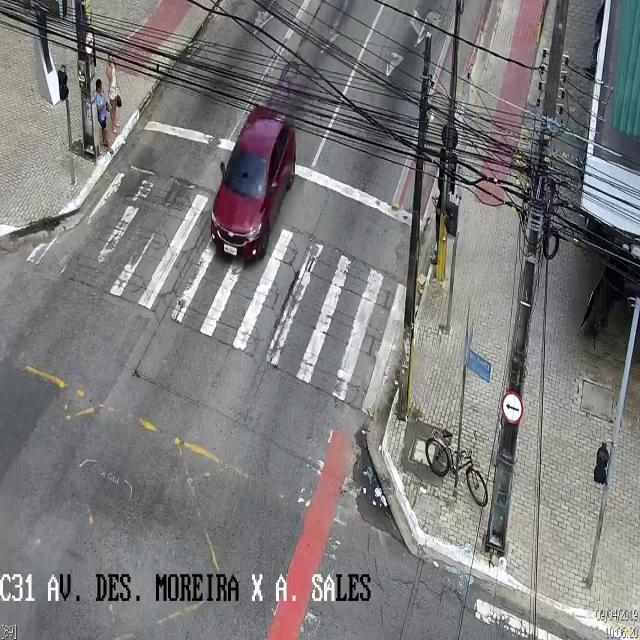Car: (210, 106, 296, 266)
